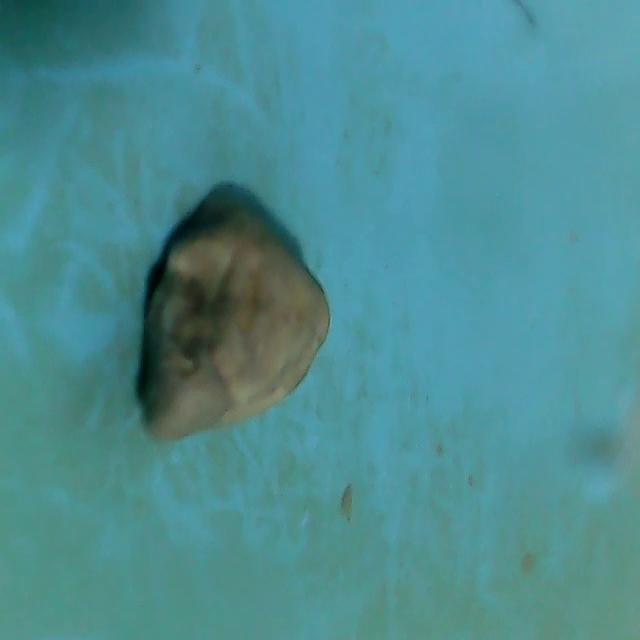rock: (130, 206, 329, 452)
